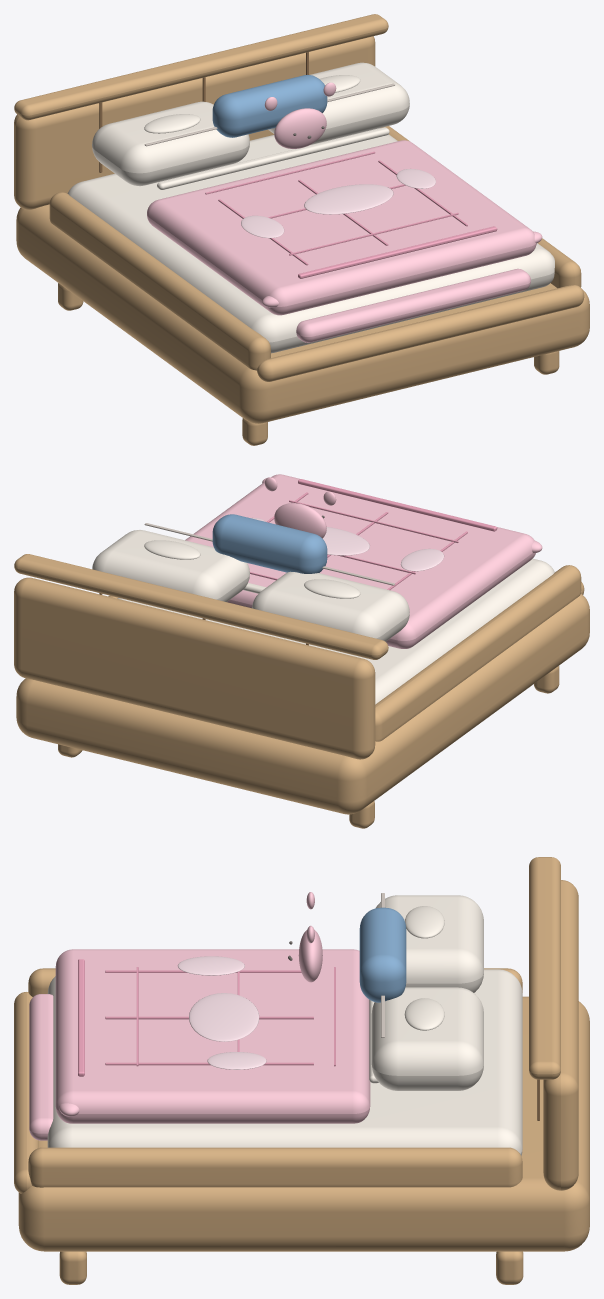
The model's file is 目标图高级整床成品.fbx.
The picture shows the model from 3 angles, top to bottom: view 1: azimuth 30°, elevation 25°; view 2: azimuth 150°, elevation 25°; view 3: azimuth 270°, elevation 25°; orthographic projection. The views are drawn at different scales.
Visible parts, largest first — view 1: 目标图高级整床成品_v353_一体薄粉软被主体, 目标图高级整床成品_v352_低矮圆角原木床框, 目标图高级整床成品_v352_内嵌奶油薄床垫, 目标图高级整床成品_v353_原木贴墙低床头板, 目标图高级整床成品_v352_侧边圆润原木细轨, 目标图高级整床成品_v353_原木床头圆润上沿, 目标图高级整床成品_v352_左奶油厚枕头, 目标图高级整床成品_v353_原木床尾低矮横梁, 目标图高级整床成品_v353_床尾低垂柔粉软被, 目标图高级整床成品_v352_右奶油厚枕头, 目标图高级整床成品_v352_海蓝小靠枕, 目标图高级整床成品_v353_床被奶油上滚边 (+8 smaller); view 2: 目标图高级整床成品_v353_原木贴墙低床头板, 目标图高级整床成品_v352_低矮圆角原木床框, 目标图高级整床成品_v353_一体薄粉软被主体, 目标图高级整床成品_v352_侧边圆润原木细轨, 目标图高级整床成品_v353_原木床头圆润上沿, 目标图高级整床成品_v352_内嵌奶油薄床垫, 目标图高级整床成品_v352_左奶油厚枕头, 目标图高级整床成品_v352_右奶油厚枕头, 目标图高级整床成品_v352_海蓝小靠枕, 目标图高级整床成品_v353_床尾细柔粉滚边, 目标图高级整床成品_v352_粉猫抱枕圆身体, 目标图高级整床成品_v353_被面中央低柔亮鼓包 (+4 smaller); view 3: 目标图高级整床成品_v353_一体薄粉软被主体, 目标图高级整床成品_v352_低矮圆角原木床框, 目标图高级整床成品_v352_内嵌奶油薄床垫, 目标图高级整床成品_v352_侧边圆润原木细轨.001, 目标图高级整床成品_v352_右奶油厚枕头, 目标图高级整床成品_v353_原木贴墙低床头板, 目标图高级整床成品_v353_原木床头圆润上沿, 目标图高级整床成品_v352_左奶油厚枕头, 目标图高级整床成品_v352_海蓝小靠枕, 目标图高级整床成品_v353_床尾低垂柔粉软被, 目标图高级整床成品_v353_原木床尾低矮横梁, 目标图高级整床成品_v353_被面中央低柔亮鼓包 (+10 smaller).
Part boxes in pixels (x1=…): 目标图高级整床成品_v353_一体薄粉软被主体: x1=147, y1=140, x2=536, y2=315; 目标图高级整床成品_v352_低矮圆角原木床框: x1=16, y1=204, x2=589, y2=423; 目标图高级整床成品_v352_内嵌奶油薄床垫: x1=67, y1=128, x2=554, y2=353; 目标图高级整床成品_v353_原木贴墙低床头板: x1=14, y1=36, x2=375, y2=209; 目标图高级整床成品_v352_侧边圆润原木细轨: x1=49, y1=192, x2=270, y2=370; 目标图高级整床成品_v353_原木床头圆润上沿: x1=14, y1=14, x2=388, y2=120; 目标图高级整床成品_v352_左奶油厚枕头: x1=92, y1=101, x2=249, y2=186; 目标图高级整床成品_v353_原木床尾低矮横梁: x1=257, y1=285, x2=584, y2=381; 目标图高级整床成品_v353_床尾低垂柔粉软被: x1=296, y1=268, x2=530, y2=342; 目标图高级整床成品_v352_右奶油厚枕头: x1=268, y1=62, x2=409, y2=144; 目标图高级整床成品_v352_海蓝小靠枕: x1=212, y1=74, x2=327, y2=137; 目标图高级整床成品_v353_床被奶油上滚边: x1=157, y1=127, x2=389, y2=189; 目标图高级整床成品_v353_原木贴墙低床头板: x1=14, y1=577, x2=375, y2=759; 目标图高级整床成品_v352_低矮圆角原木床框: x1=16, y1=593, x2=589, y2=814; 目标图高级整床成品_v353_一体薄粉软被主体: x1=185, y1=474, x2=535, y2=648; 目标图高级整床成品_v352_侧边圆润原木细轨: x1=375, y1=565, x2=581, y2=741; 目标图高级整床成品_v353_原木床头圆润上沿: x1=14, y1=554, x2=388, y2=659; 目标图高级整床成品_v352_内嵌奶油薄床垫: x1=117, y1=558, x2=554, y2=704; 目标图高级整床成品_v352_左奶油厚枕头: x1=252, y1=571, x2=409, y2=641; 目标图高级整床成品_v352_右奶油厚枕头: x1=92, y1=530, x2=249, y2=601; 目标图高级整床成品_v352_海蓝小靠枕: x1=212, y1=514, x2=327, y2=573; 目标图高级整床成品_v353_床尾细柔粉滚边: x1=298, y1=479, x2=497, y2=531; 目标图高级整床成品_v352_粉猫抱枕圆身体: x1=274, y1=503, x2=326, y2=538; 目标图高级整床成品_v353_被面中央低柔亮鼓包: x1=322, y1=527, x2=369, y2=555; 目标图高级整床成品_v353_一体薄粉软被主体: x1=55, y1=949, x2=370, y2=1123; 目标图高级整床成品_v352_低矮圆角原木床框: x1=18, y1=996, x2=589, y2=1251; 目标图高级整床成品_v352_内嵌奶油薄床垫: x1=47, y1=969, x2=522, y2=1155; 目标图高级整床成品_v352_侧边圆润原木细轨.001: x1=28, y1=1147, x2=522, y2=1187; 目标图高级整床成品_v352_右奶油厚枕头: x1=371, y1=987, x2=483, y2=1090; 目标图高级整床成品_v353_原木贴墙低床头板: x1=543, y1=880, x2=578, y2=1190; 目标图高级整床成品_v353_原木床头圆润上沿: x1=529, y1=857, x2=560, y2=1079; 目标图高级整床成品_v352_左奶油厚枕头: x1=376, y1=895, x2=483, y2=992; 目标图高级整床成品_v352_海蓝小靠枕: x1=359, y1=907, x2=406, y2=1002; 目标图高级整床成品_v353_床尾低垂柔粉软被: x1=29, y1=994, x2=53, y2=1140; 目标图高级整床成品_v353_原木床尾低矮横梁: x1=14, y1=992, x2=38, y2=1193; 目标图高级整床成品_v353_被面中央低柔亮鼓包: x1=189, y1=993, x2=259, y2=1041.
Bounding box in the file's own units: 156 × 99.25 × 179.
